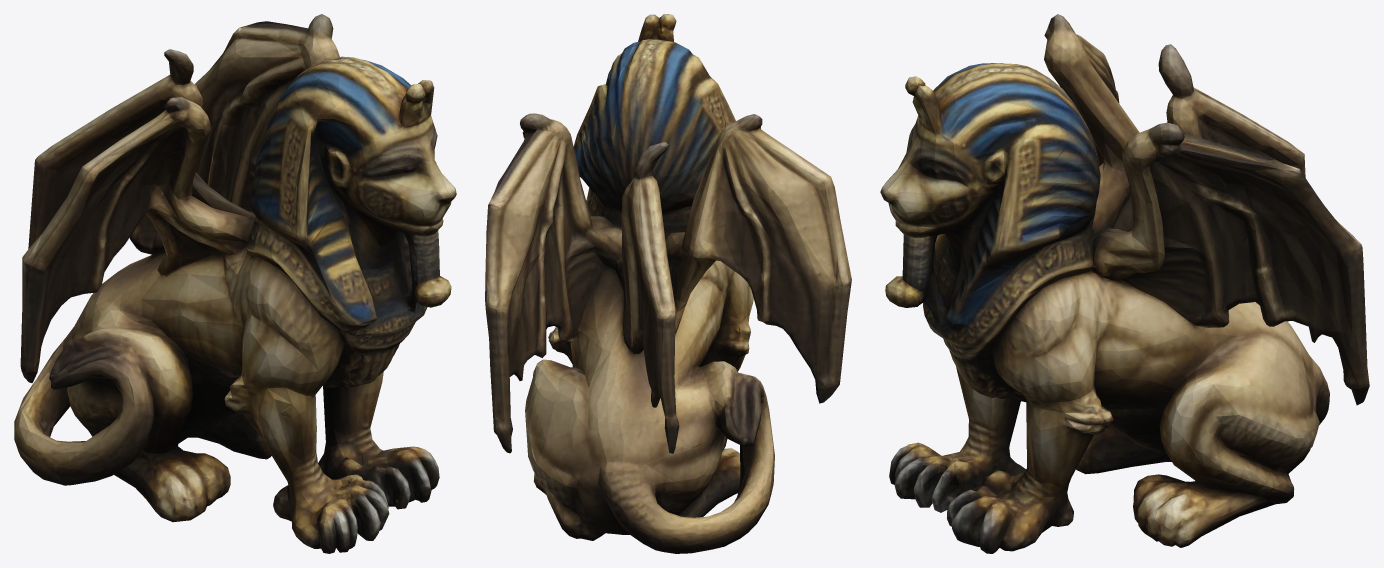
The model's file is vespera.glb.
The picture shows the model from 3 angles, left to right: view 1: azimuth 30°, elevation 25°; view 2: azimuth 150°, elevation 25°; view 3: azimuth 270°, elevation 25°; orthographic projection. The views are drawn at different scales.
Parts seen in each view (by area): view 1: world; view 2: world; view 3: world.
Boxes of the visible parts, <box> form: world: <box>14,14,456,553</box>; world: <box>485,14,851,553</box>; world: <box>880,14,1369,553</box>.
Bounding box in the file's own units: 0.5636 × 0.6785 × 0.6442.
1 material, 1 textured.
